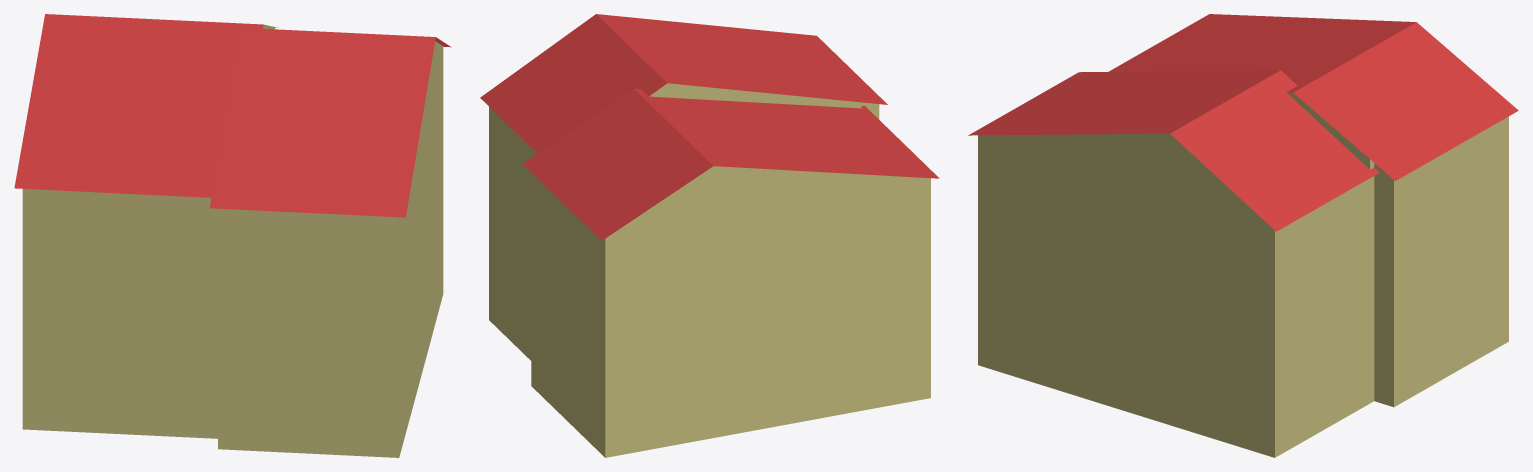
The picture shows the model from 3 angles, left to right: view 1: azimuth 30°, elevation 25°; view 2: azimuth 150°, elevation 25°; view 3: azimuth 270°, elevation 25°; orthographic projection. The views are drawn at different scales.
Bounding box in the file's own units: 18.25 × 19.51 × 11.54.
